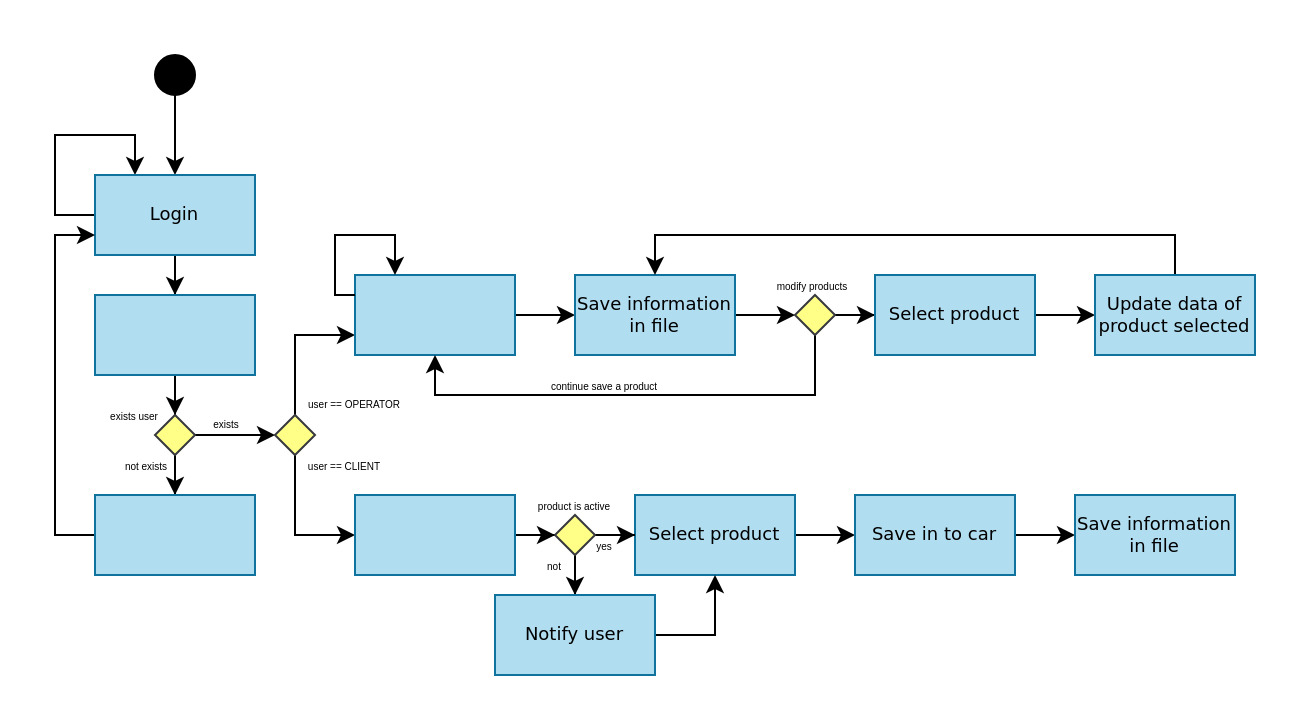
Some shapes in this 1308 by 728 pixel diagram are drawn without their labels. Here are the shapes that lost their labels. From the top down, the centre of each, then its label:
At (174,334): "Authentication User".
At (434,314): "Save a new product".
At (174,534): "Register new User".
At (434,534): "Show products".
